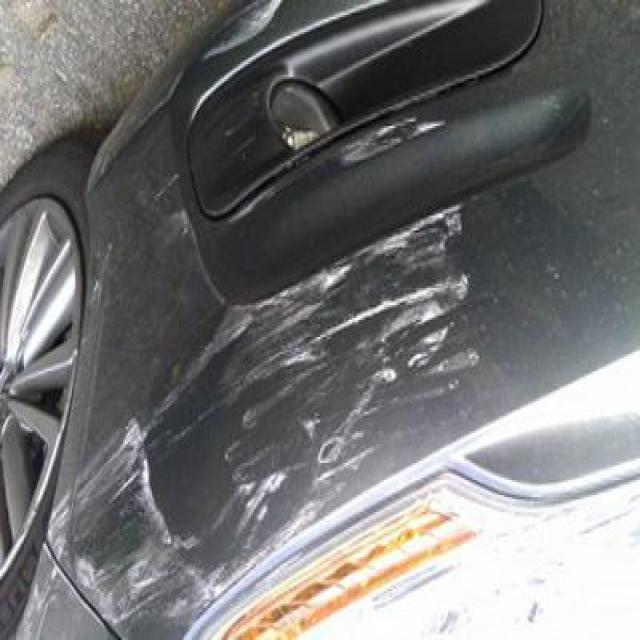scratch: (45, 168, 504, 640)
